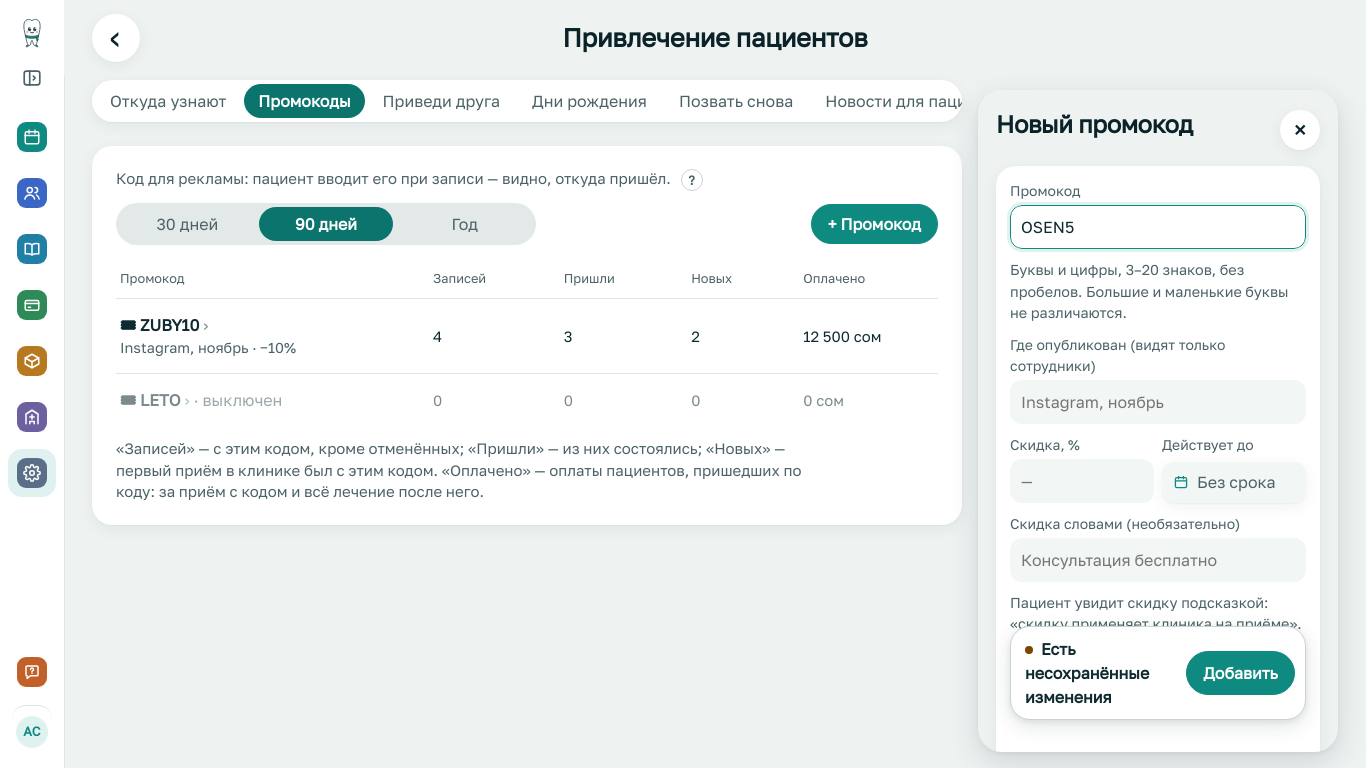
it: «Промокоды»: отчёт по коду, новый промокод, правка и ссылки с кодом
This screenshot has width=1366, height=768.
Earlier steps of the test are not shown.
Type "Листовки" into the field labelled "Где опубликован (видят только сотрудники)" at (1158, 402), box 1010,380 -> 1306,424
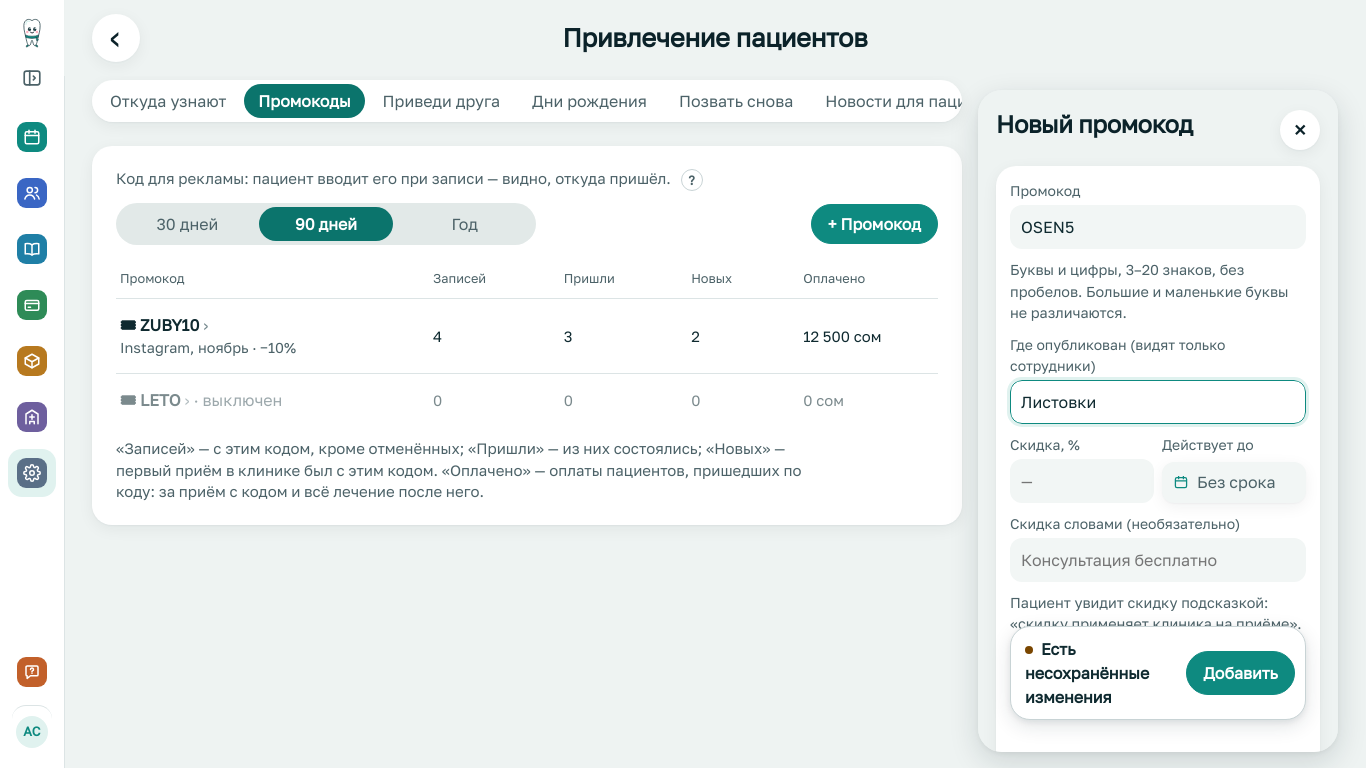
Type "5" into the number field labelled "Скидка, %" at (1082, 481), box 1010,459 -> 1154,503
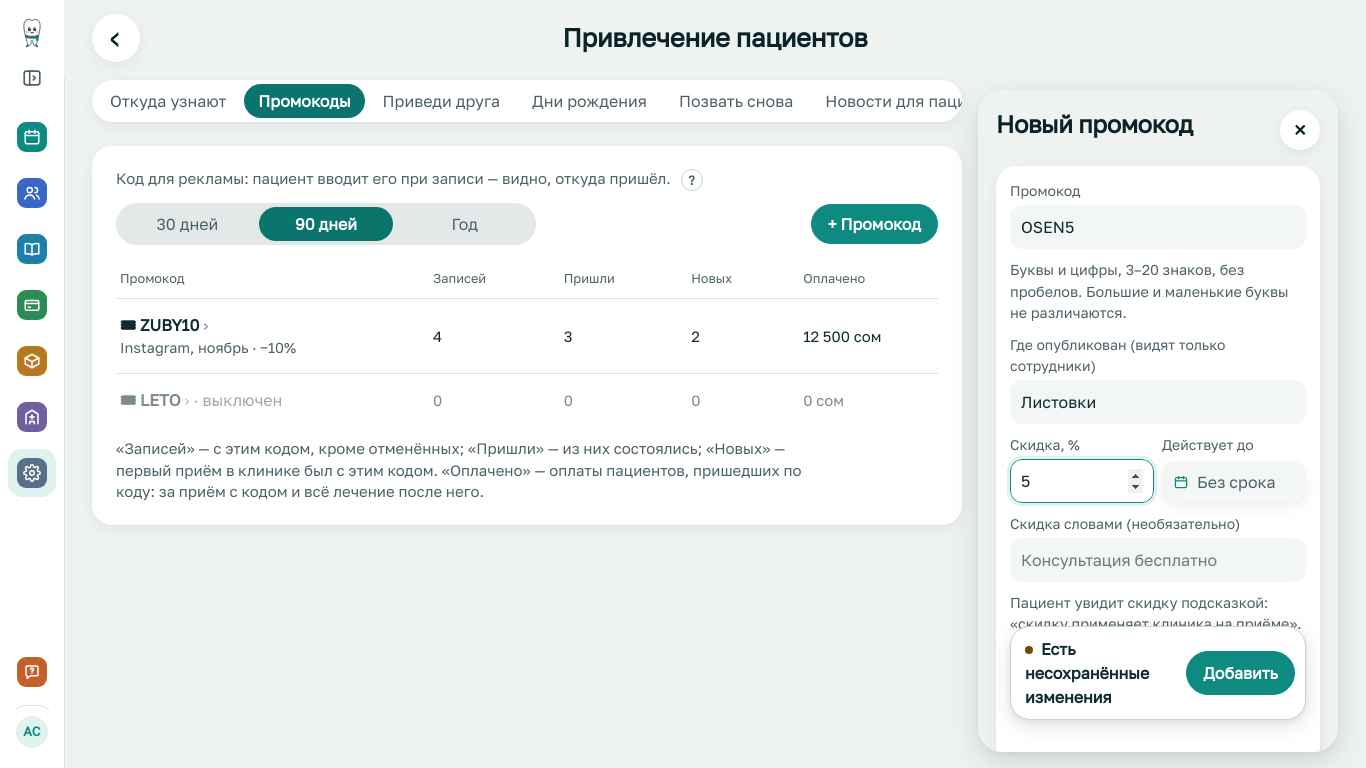
Click the button "Добавить" at (1241, 673), box 1186,651 -> 1295,695
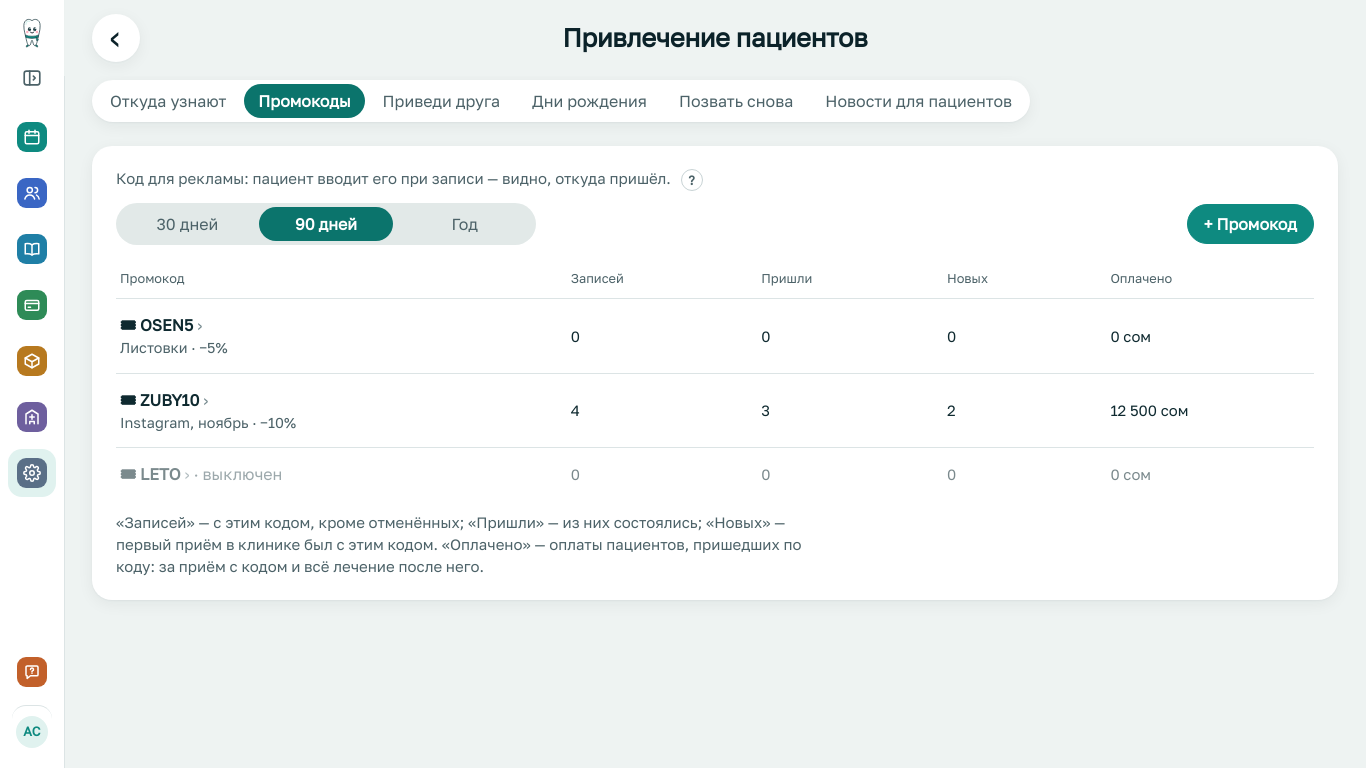
Check: the button "🎟 OSEN5" is shown, box 120,313 -> 202,337
Click the button "🎟 ZUBY10" at (164, 400), box 120,388 -> 208,412
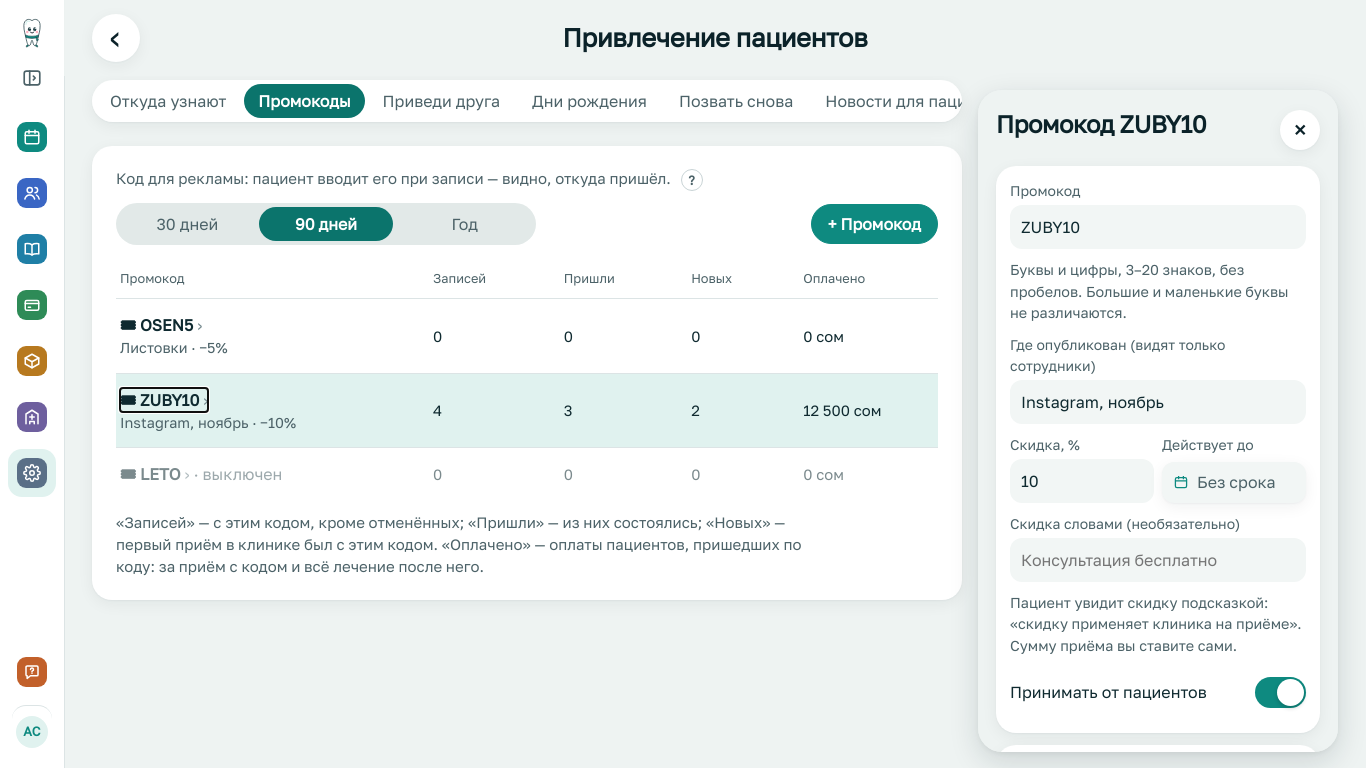
Click the checkbox labelled "Принимать от пациентов" at (1280, 693), box 1255,677 -> 1306,708
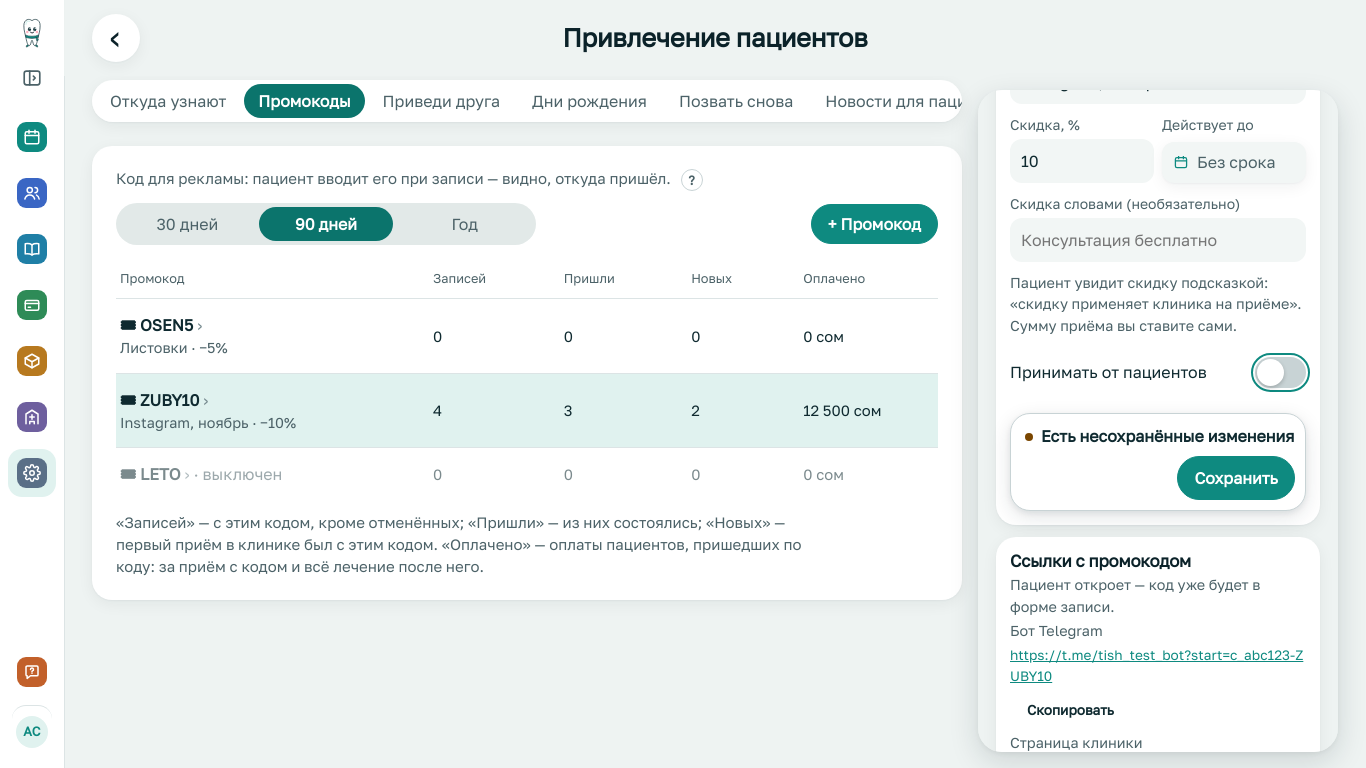
Click the button "Сохранить" at (1236, 478), box 1177,456 -> 1295,500
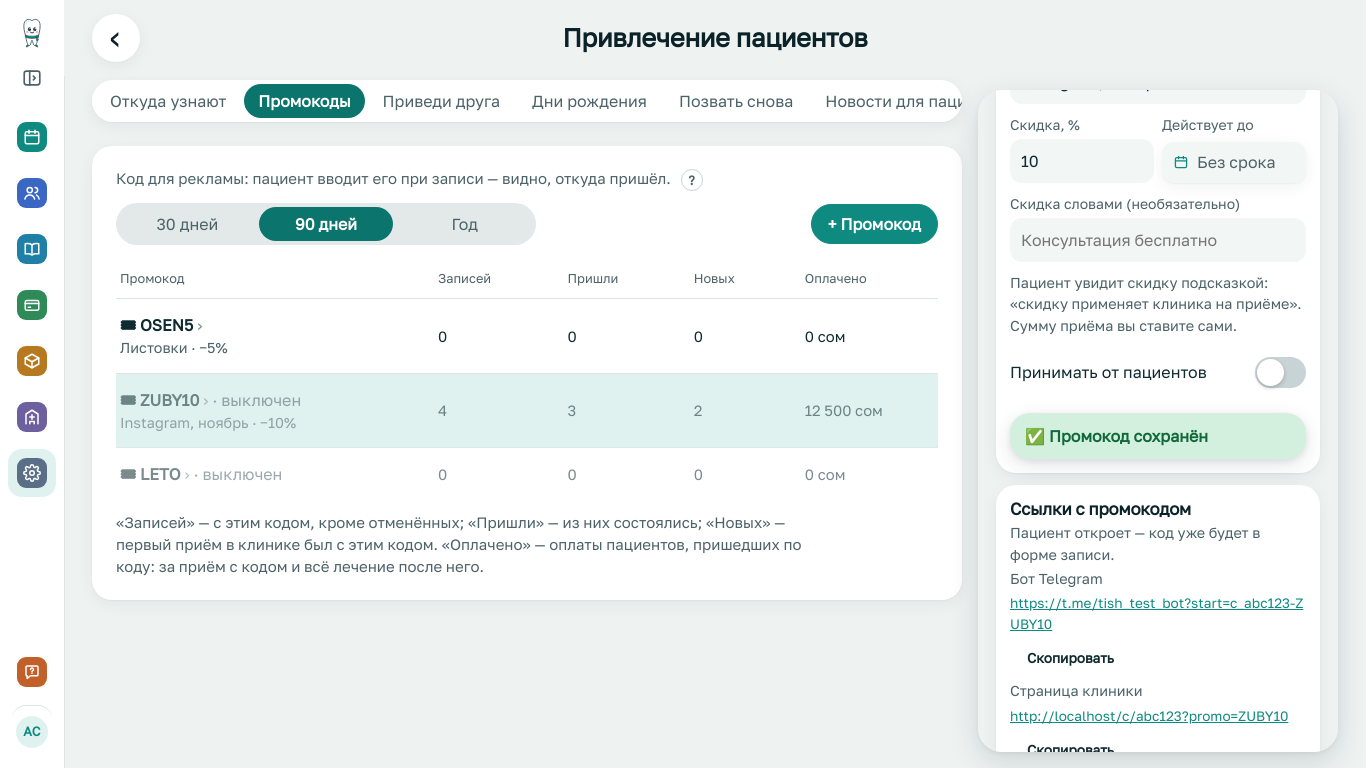
Check: the message shows "Промокод сохранён", box 1049,426 -> 1208,446
